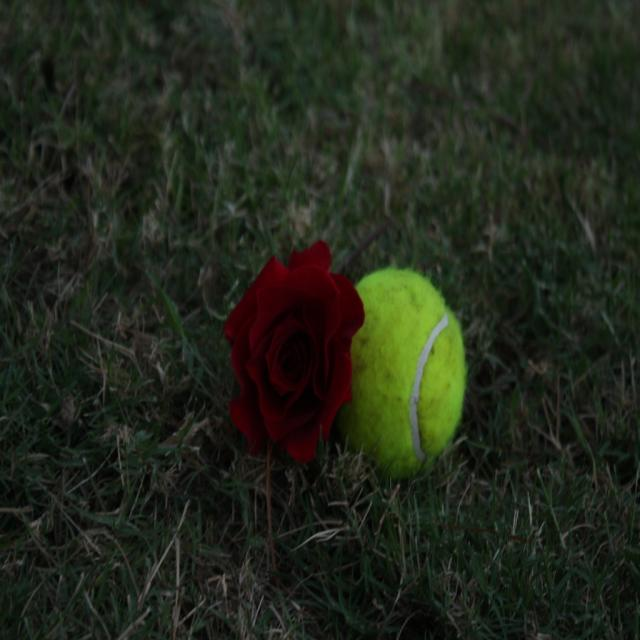Tennis ball: (333, 268, 473, 481)
